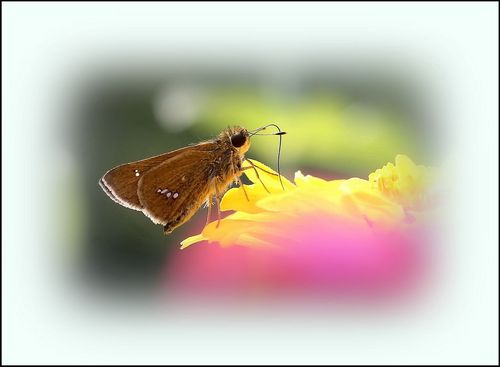Hesperiidae: (96, 112, 299, 240)
